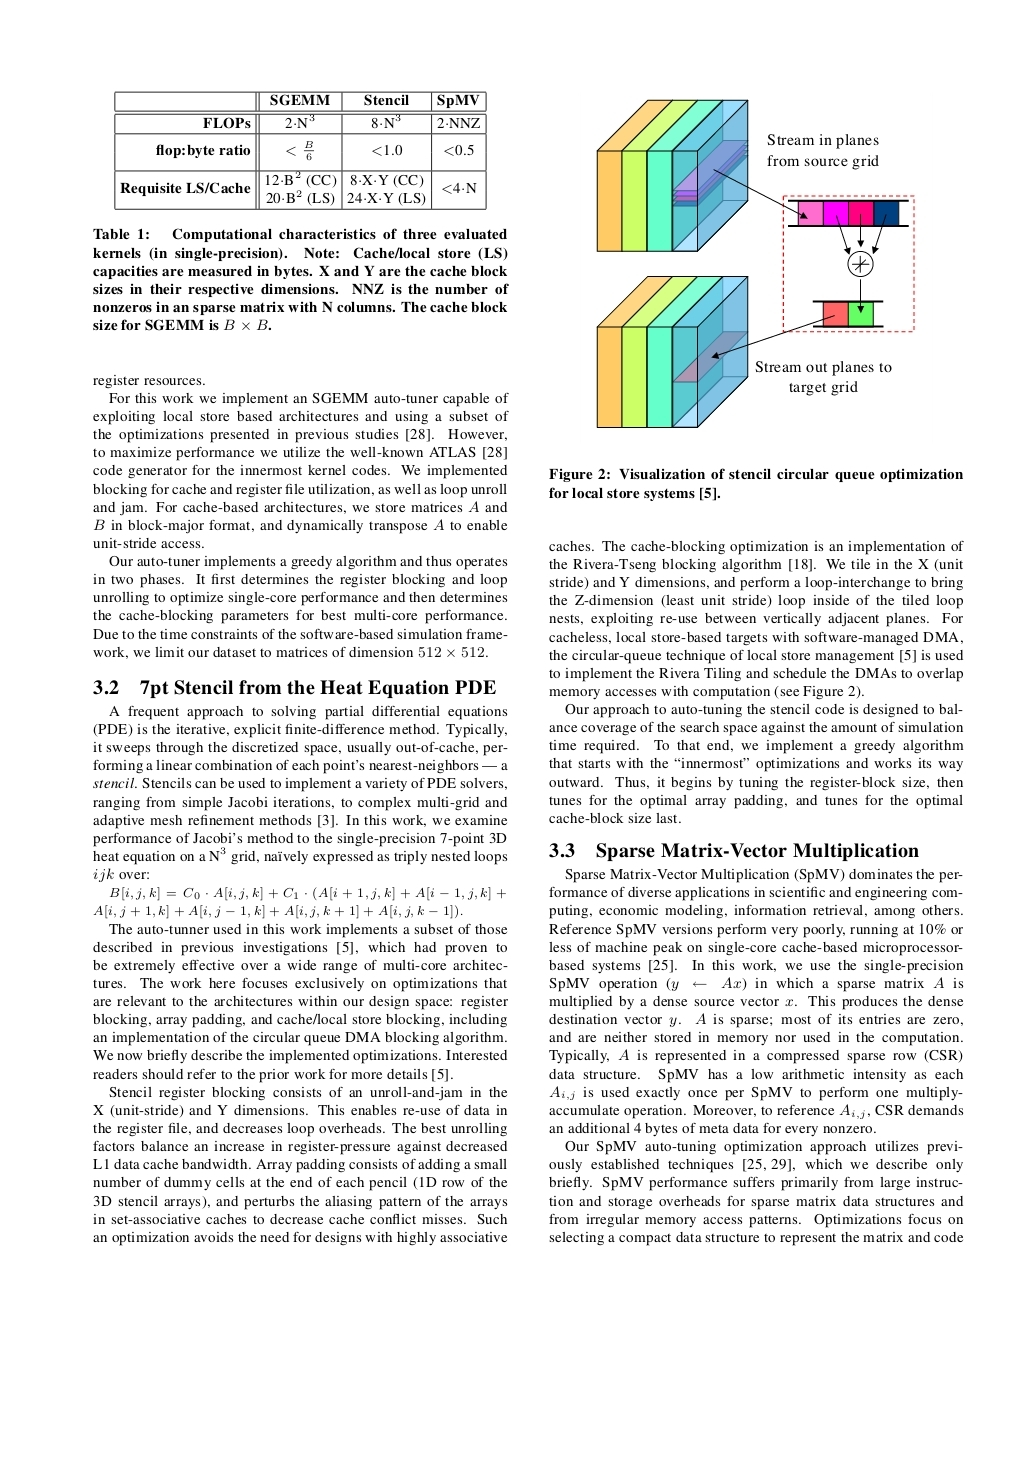Table: (114, 92, 486, 209)
figure: (596, 98, 914, 428)
formula: (109, 885, 505, 901), (93, 904, 462, 919)
